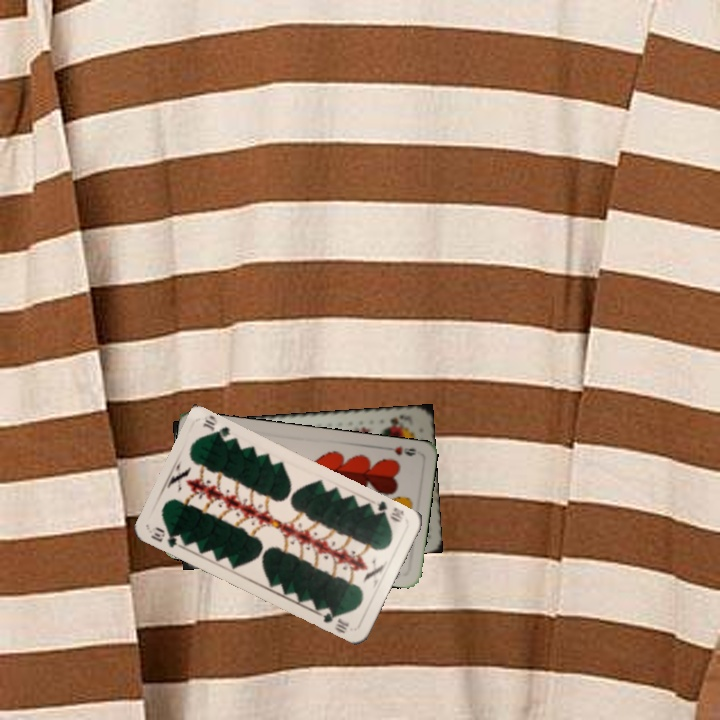G10: (147, 523, 186, 550), (372, 497, 407, 525)
H9: (391, 442, 419, 459)
SK: (380, 410, 405, 430)
